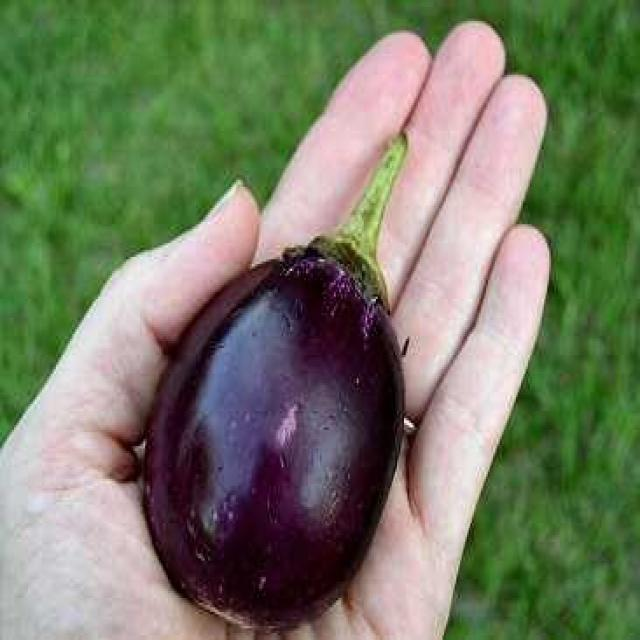Eggplant-r1Ob: (144, 135, 416, 630)
